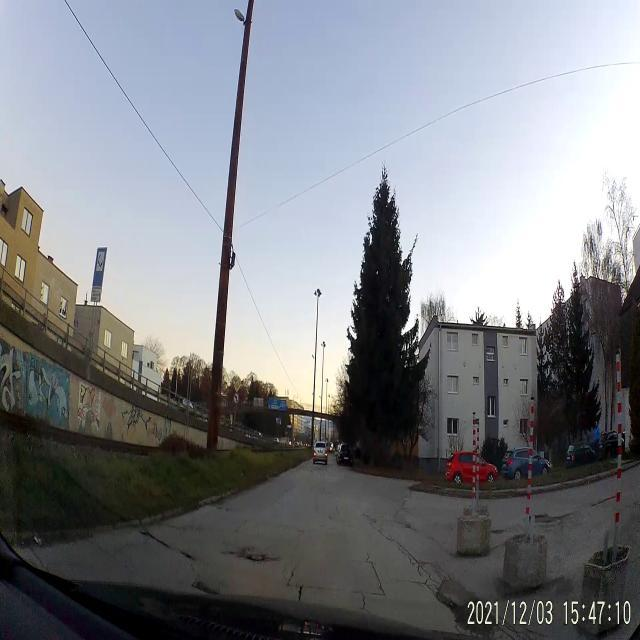Pothole: (436, 575, 489, 635), (142, 528, 196, 564), (232, 544, 274, 568), (192, 575, 220, 604), (536, 512, 568, 524), (212, 499, 231, 512)
